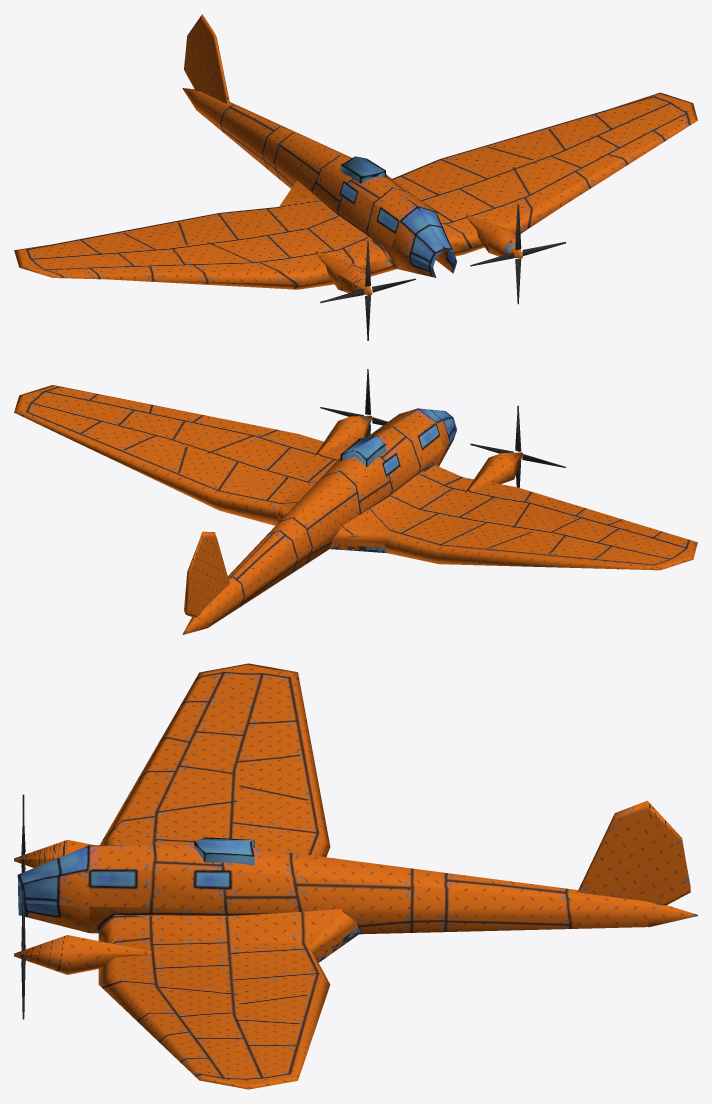
File: BombarderoEnemigo_V2.fbx
The picture shows the model from 3 angles, top to bottom: view 1: azimuth 30°, elevation 25°; view 2: azimuth 150°, elevation 25°; view 3: azimuth 270°, elevation 25°; orthographic projection. The views are drawn at different scales.
Parts seen in each view (by area): view 1: HE112, polySurface3, polySurface5; view 2: HE112, polySurface5, polySurface3; view 3: HE112.
Part boxes in pixels (x1=…): HE112: x1=14, y1=14, x2=697, y2=294; polySurface3: x1=470, y1=204, x2=565, y2=304; polySurface5: x1=320, y1=240, x2=415, y2=340; HE112: x1=14, y1=385, x2=697, y2=634; polySurface5: x1=470, y1=405, x2=565, y2=487; polySurface3: x1=320, y1=369, x2=387, y2=437; HE112: x1=14, y1=663, x2=697, y2=1089.
Size of the model in its own units: 874 by 164 by 593.
